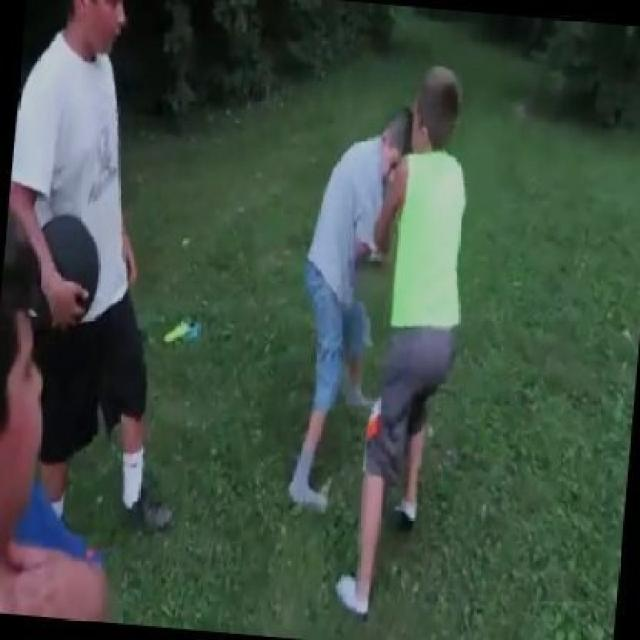fight: (252, 48, 520, 535)
non-fight: (4, 0, 206, 542)
